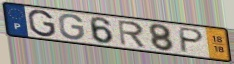6: (88, 16, 116, 46)
8: (148, 23, 176, 53)
G: (27, 9, 58, 38), (57, 13, 86, 41)
P: (179, 26, 206, 54)
R: (116, 19, 147, 49)
